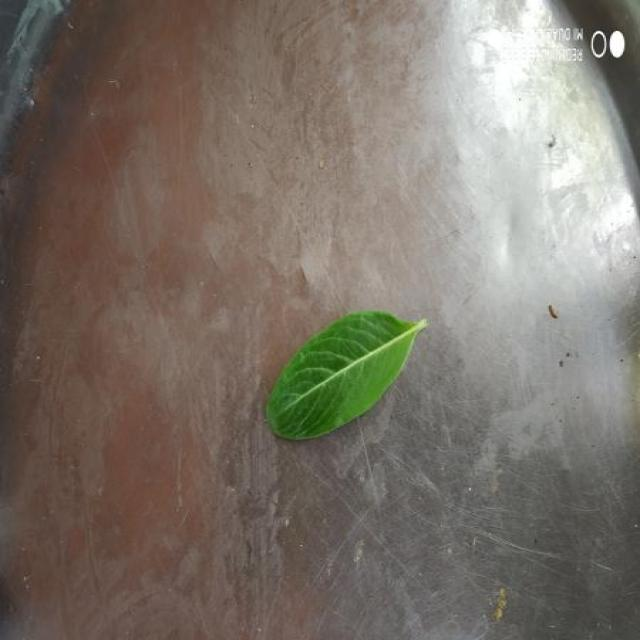catharanthus: (267, 311, 428, 439)
